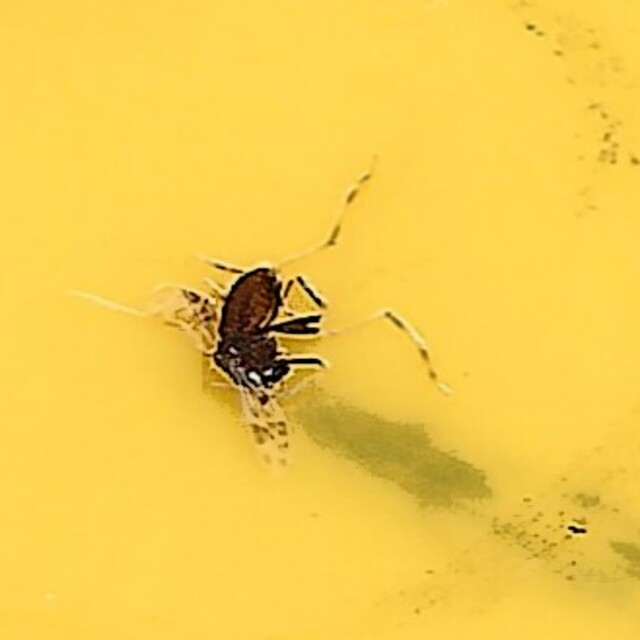Nematocera: (195, 165, 445, 475)
